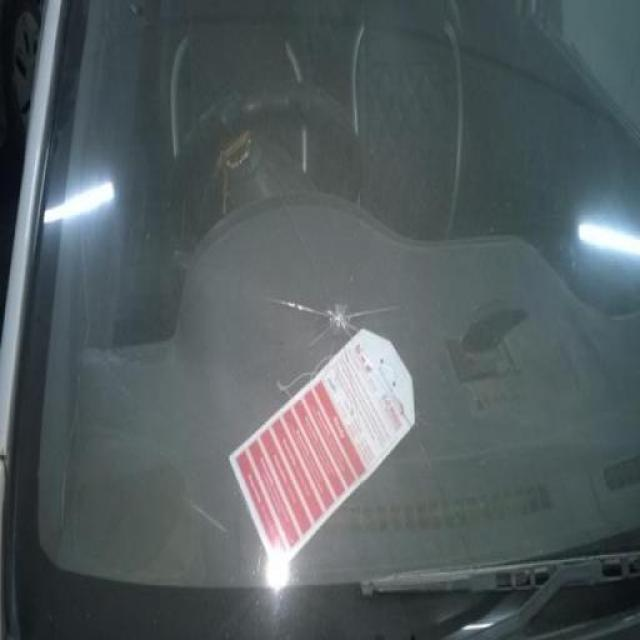crack: (278, 295, 387, 354)
